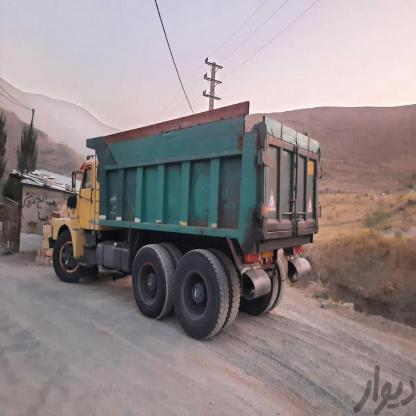Truck: (53, 106, 314, 354)
